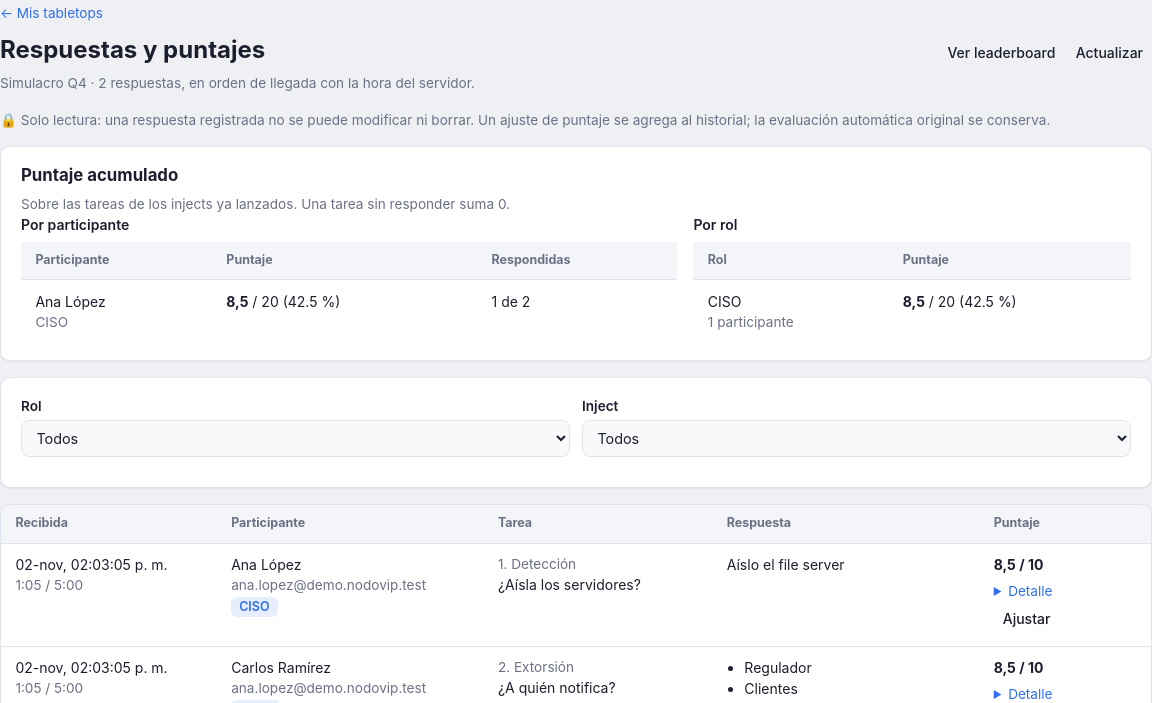
Registro de respuestas de la sesión › filtra por rol
expect the text "Aíslo el file server" is shown: met, box top-left (712, 543), bottom-right (979, 646)
Select "Legal" in the dropdown labelled "Rol" at (296, 439), box top-left (21, 420), bottom-right (570, 457)
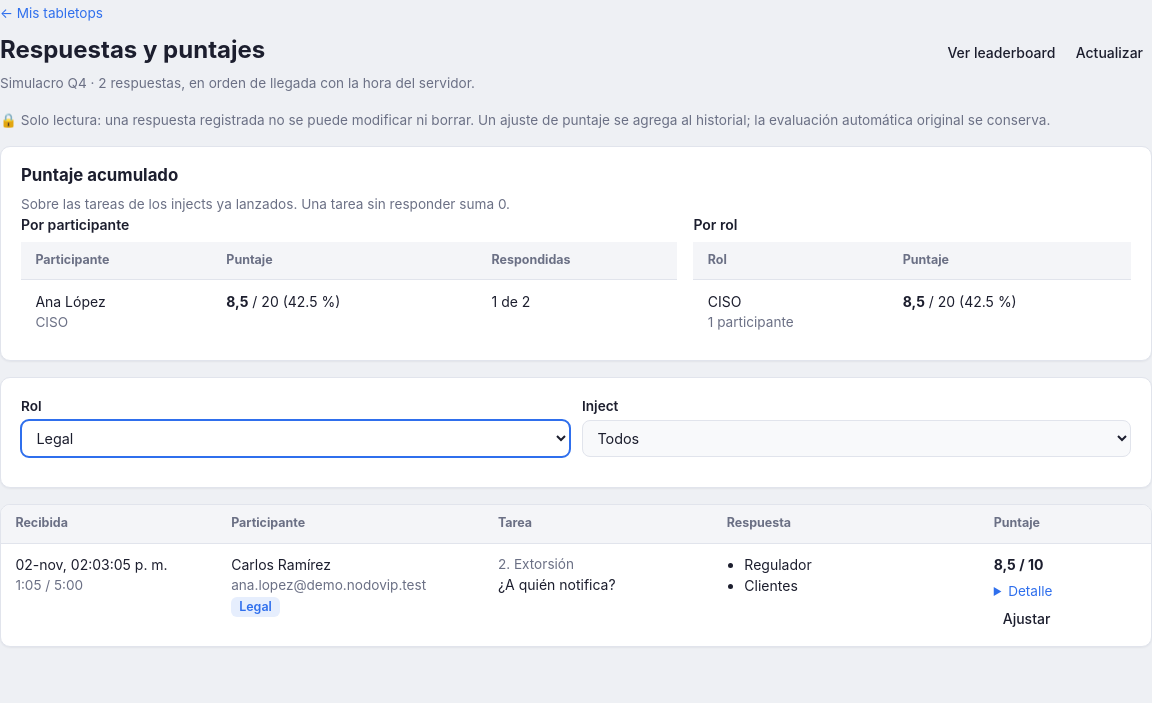
expect the text "Carlos Ramírez" is shown: met, box top-left (231, 556), bottom-right (331, 573)
expect the text "Aíslo el file server" is gone: met
